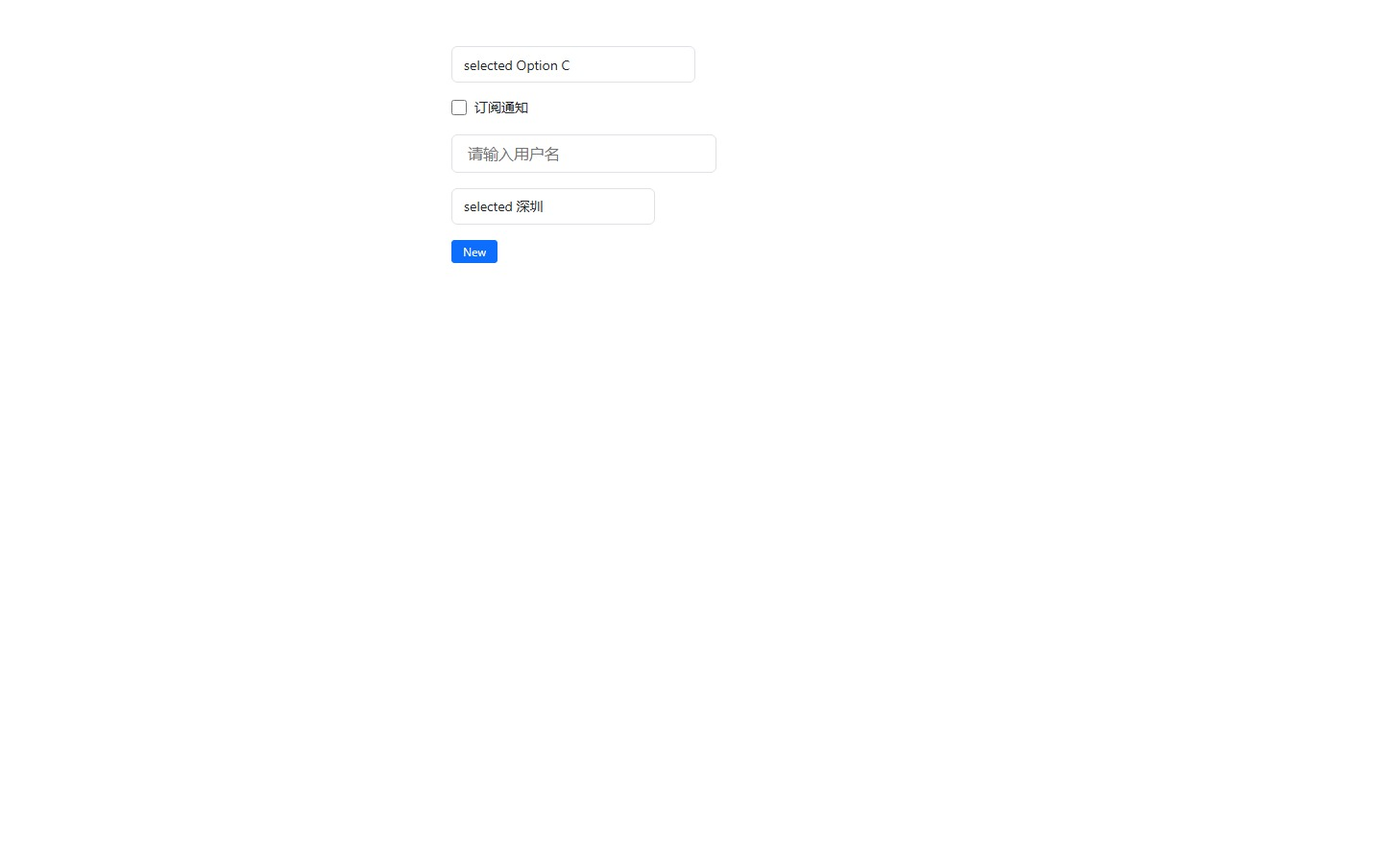button: (451, 240, 497, 263)
checkbox: (451, 99, 467, 115)
icon: (474, 98, 528, 116)
input: (451, 134, 716, 172)
radio: (451, 98, 528, 116)
select: (451, 46, 695, 83), (451, 188, 655, 224)
